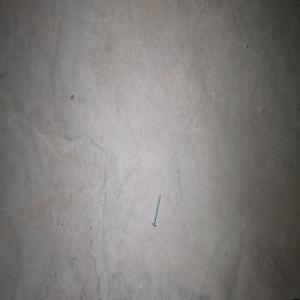Bolt: (151, 192, 160, 227)
